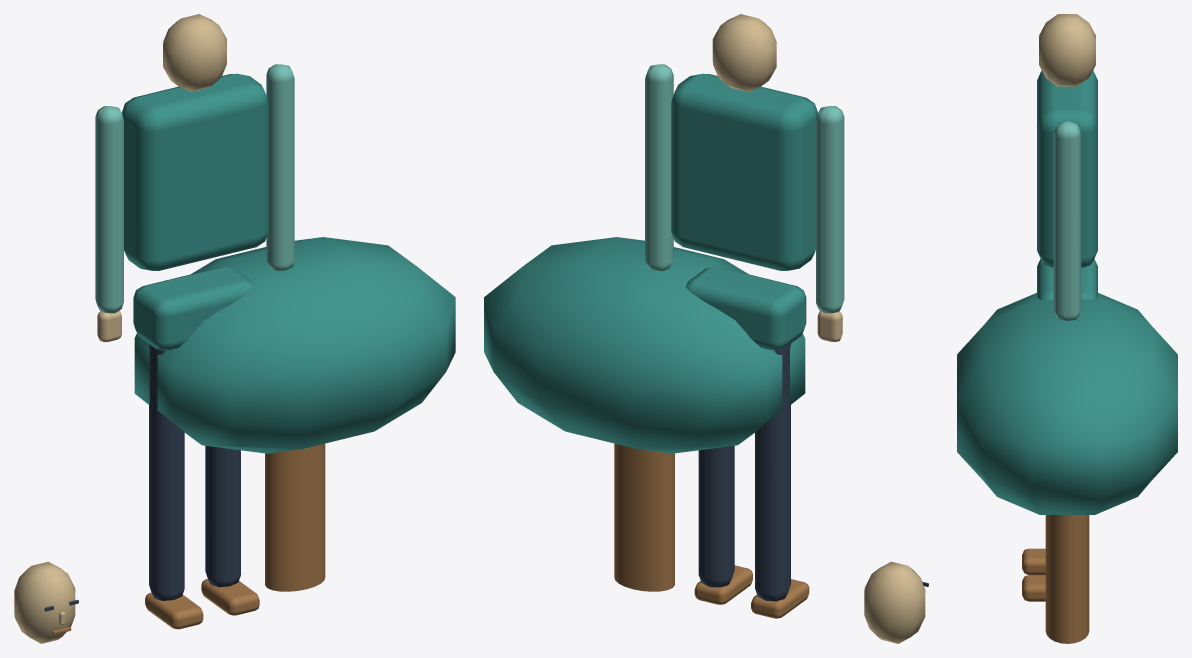
The model's file is COMPOSICAO.glb.
3 views of the same model, side by side, from view 1: azimuth 30°, elevation 25°; view 2: azimuth 150°, elevation 25°; view 3: azimuth 270°, elevation 25° (orthographic). The views are drawn at different scales.
Visible parts, largest first — view 1: Copa, Tronco (×2), Cabeça (×2), Perna 1, Pelve, Braço 1, Braço 2, Perna 2, Pé 1, Pé 2, Mão 1; view 2: Copa, Tronco (×2), Cabeça (×2), Perna 1, Pelve, Braço 1, Braço 2, Perna 2, Pé 2, Pé 1, Mão 1; view 3: Copa, Tronco (×2), Braço 2, Cabeça, Pelve, Pé 1, Pé 2.
Boxes of the visible parts, x1=… form: Copa: x1=134, y1=237, x2=455, y2=453; Tronco (×2): x1=121, y1=73, x2=325, y2=591; Cabeça (×2): x1=14, y1=14, x2=226, y2=643; Perna 1: x1=149, y1=344, x2=184, y2=600; Pelve: x1=133, y1=267, x2=253, y2=350; Braço 1: x1=95, y1=106, x2=123, y2=313; Braço 2: x1=266, y1=64, x2=294, y2=270; Perna 2: x1=205, y1=445, x2=240, y2=587; Pé 1: x1=145, y1=592, x2=203, y2=629; Pé 2: x1=201, y1=579, x2=259, y2=615; Mão 1: x1=97, y1=310, x2=121, y2=342; Copa: x1=484, y1=237, x2=805, y2=453; Tronco (×2): x1=614, y1=73, x2=817, y2=591; Cabeça (×2): x1=712, y1=14, x2=925, y2=643; Perna 1: x1=755, y1=344, x2=790, y2=601; Pelve: x1=685, y1=267, x2=806, y2=350; Braço 1: x1=816, y1=106, x2=844, y2=313; Braço 2: x1=645, y1=64, x2=673, y2=270; Perna 2: x1=698, y1=445, x2=734, y2=587; Pé 2: x1=694, y1=565, x2=752, y2=604; Pé 1: x1=751, y1=579, x2=809, y2=618; Mão 1: x1=817, y1=310, x2=842, y2=342; Copa: x1=957, y1=293, x2=1177, y2=514; Tronco (×2): x1=1037, y1=70, x2=1097, y2=643; Braço 2: x1=1053, y1=121, x2=1081, y2=320; Cabeça: x1=1039, y1=14, x2=1095, y2=86; Pelve: x1=1037, y1=259, x2=1097, y2=300; Pé 1: x1=1022, y1=548, x2=1045, y2=574; Pé 2: x1=1022, y1=575, x2=1045, y2=601.
Bounding box in the file's own units: 1.33 × 1.79 × 0.6332.
